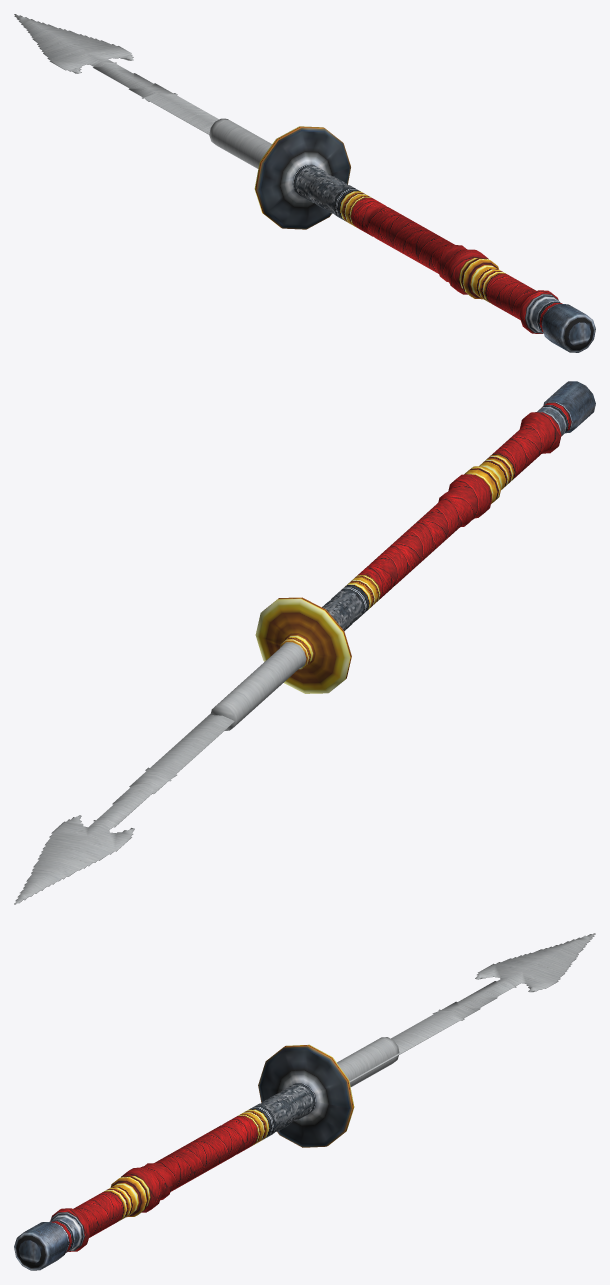
File: item_spear4.glb
3 renders of one model, top to bottom at view 1: azimuth 30°, elevation 25°; view 2: azimuth 150°, elevation 25°; view 3: azimuth 330°, elevation 25°, orthographic.
Parts seen in each view (by area): view 1: pole_spear4; view 2: pole_spear4; view 3: pole_spear4.
Boxes of the visible parts, bbox=[...] form: pole_spear4: bbox=[14, 14, 595, 352]; pole_spear4: bbox=[14, 381, 595, 904]; pole_spear4: bbox=[14, 933, 595, 1270].
Size of the model in its own units: 0.1903 by 0.2194 by 1.97.
1 material, 1 textured.
